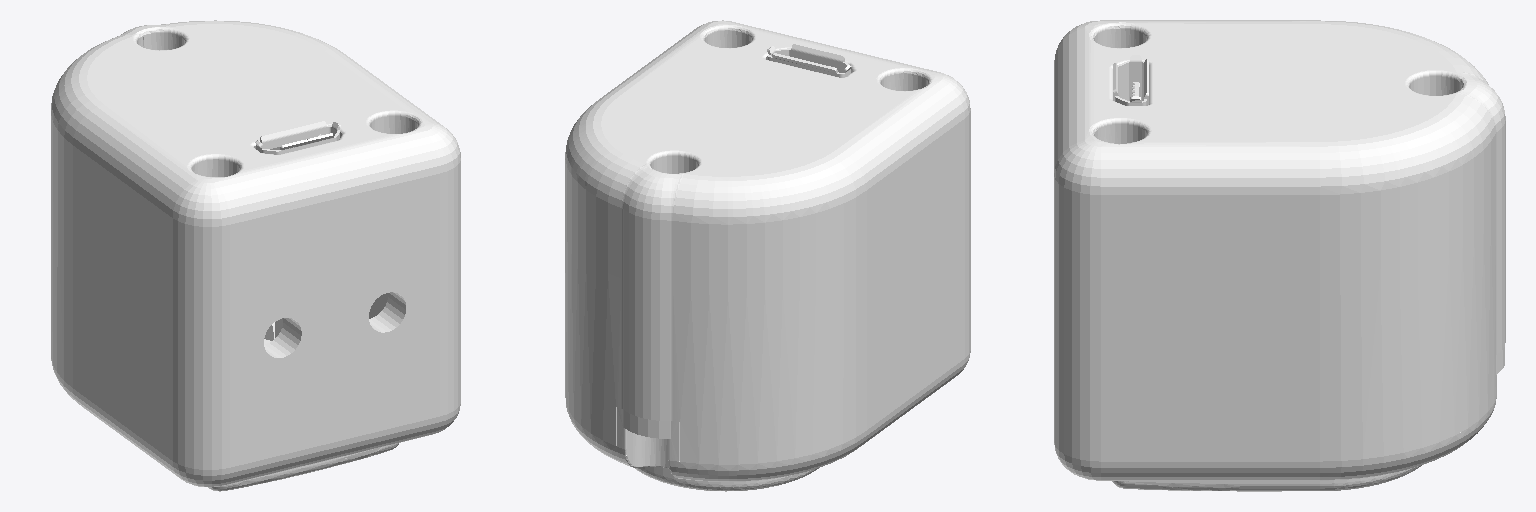
URDF robot description (digit):
<?xml version="1.0" ?>
<robot name="digit">
  <link concave="yes" name="baseLink">
    <inertial>
      <origin rpy="0 0 0" xyz="0 0 0"/>
       <mass value=".1"/>
       <inertia ixx="1" ixy="0" ixz="0" iyy="1" iyz="0" izz="1"/>
    </inertial>
    <visual>
      <origin rpy="0 0 0" xyz="0 0 0"/>
      <geometry>
				<mesh filename="../STL/digit.STL" scale="1 1 1"/>
      </geometry>
       <material name="white">
        <color rgba="1 1 1 1"/>
      </material>
    </visual>
    <collision concave="yes">
      <origin rpy="0 0 0" xyz="0 0 0"/>
     <geometry>
				<mesh filename="../STL/digit.STL" scale="1 1 1"/>
      </geometry>
    </collision>
  </link>
</robot>

--- Render facts (derived) ---
3 views of the same robot in one strip: view 1: azimuth 30°, elevation 25°; view 2: azimuth 150°, elevation 25°; view 3: azimuth 270°, elevation 25° (orthographic).
Model digit with 1 links and 0 joints (none), rooted at baseLink, posed all joints at 0.
Links seen in each view (by area): view 1: baseLink; view 2: baseLink; view 3: baseLink.
Boxes of the visible links, bbox=[...] form: baseLink: bbox=[51, 20, 460, 491]; baseLink: bbox=[565, 20, 970, 491]; baseLink: bbox=[1054, 20, 1505, 491].
Bounding box of the posed robot: 0.027 × 0.034 × 0.0323 m (x, y, z).
Meshes: 1 distinct files referenced, 1 mesh visuals loaded (1 binary STL).